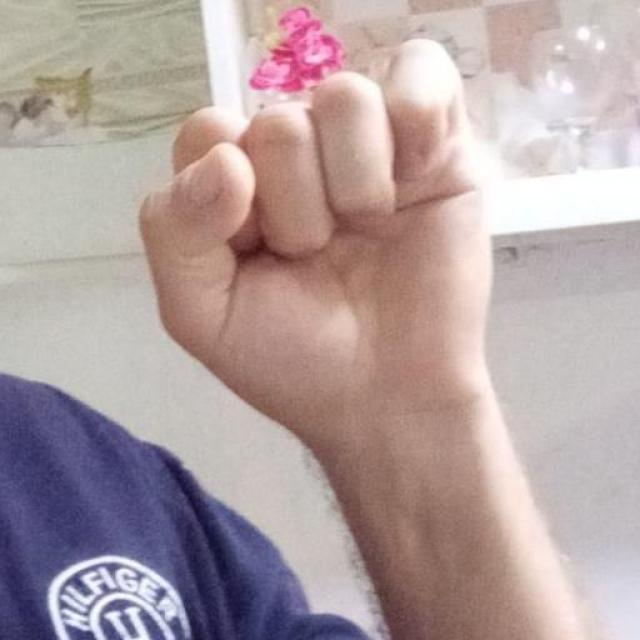hand: (138, 35, 498, 451)
